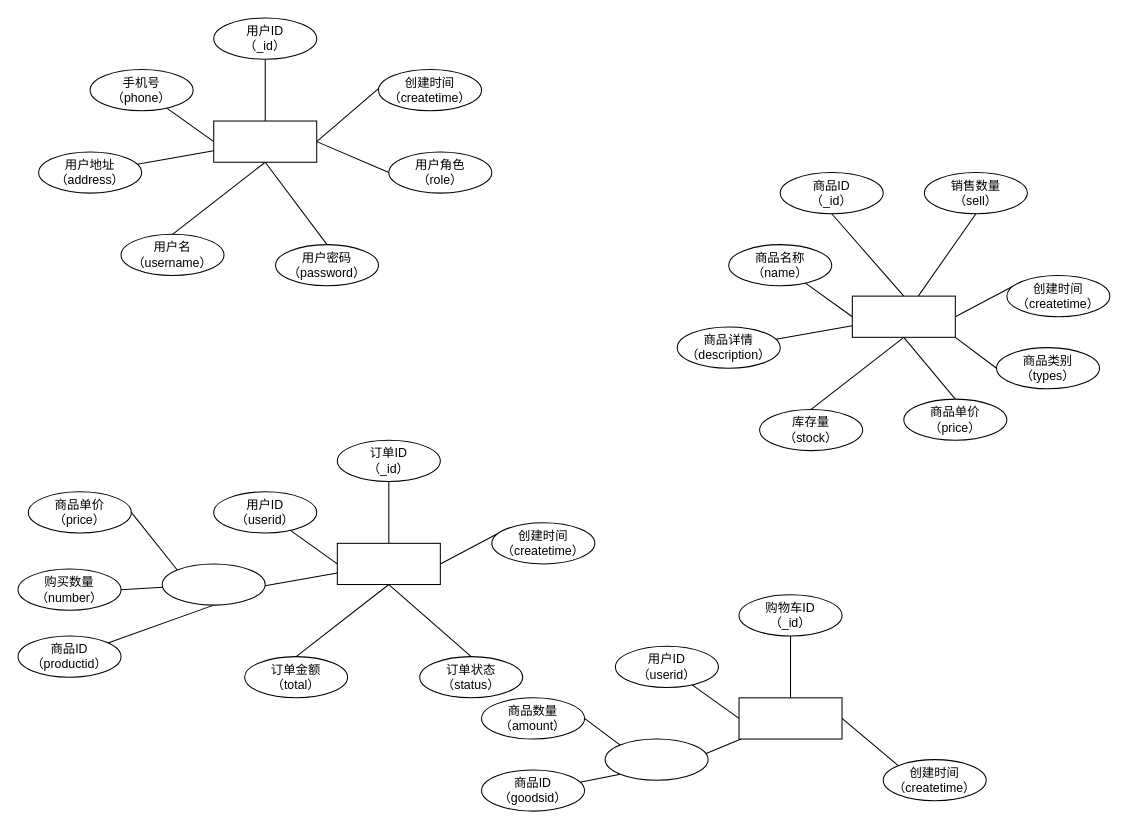
Some shapes in this 1128 by 829 pixel diagram are drawn without their labels. The centre of each missing label's shape, as x and y in pixels:
商品信息 （items）: [213,584]
商品信息 （products）: [656,759]
商品集合 （goods）: [903,316]
用户集合 （user）: [265,141]
订单信息集合 （orders）: [388,563]
购物车集合 （carts）: [790,718]
